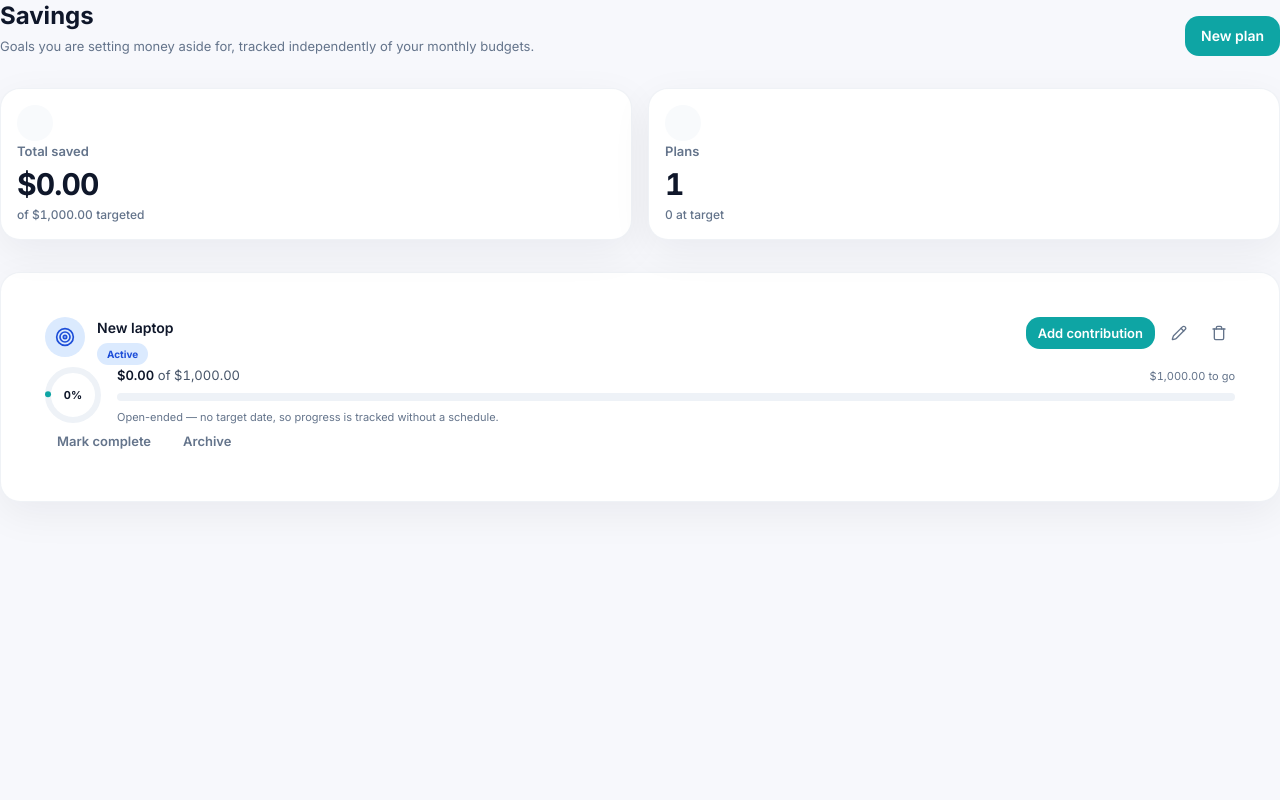
completion prompt › keeps the plan open-ended when the user chooses to keep contributing
The width and height of the screenshot is (1280, 800).
Click the button "Add contribution" at point(1090, 333), box [1026,317,1155,349]
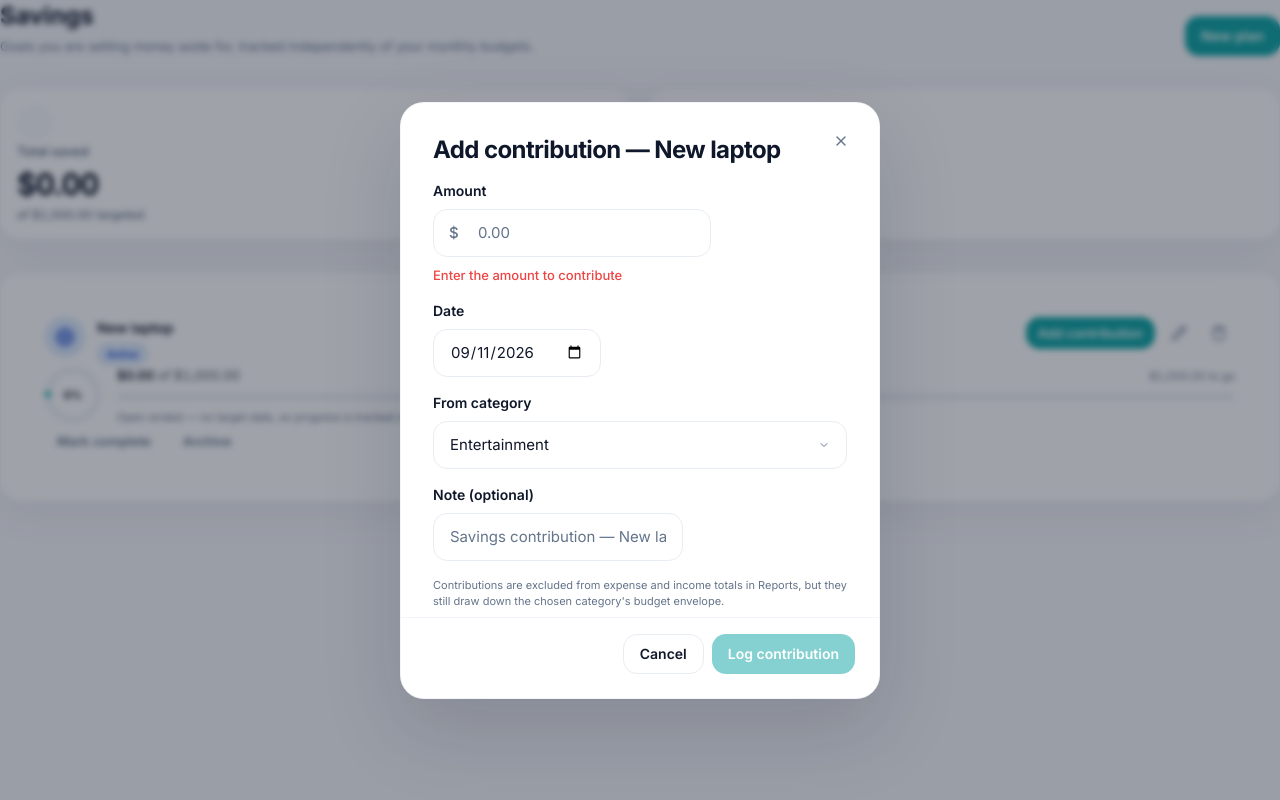
Type "1000" into the field labelled "Amount" at point(572, 232), box [433,208,711,256]
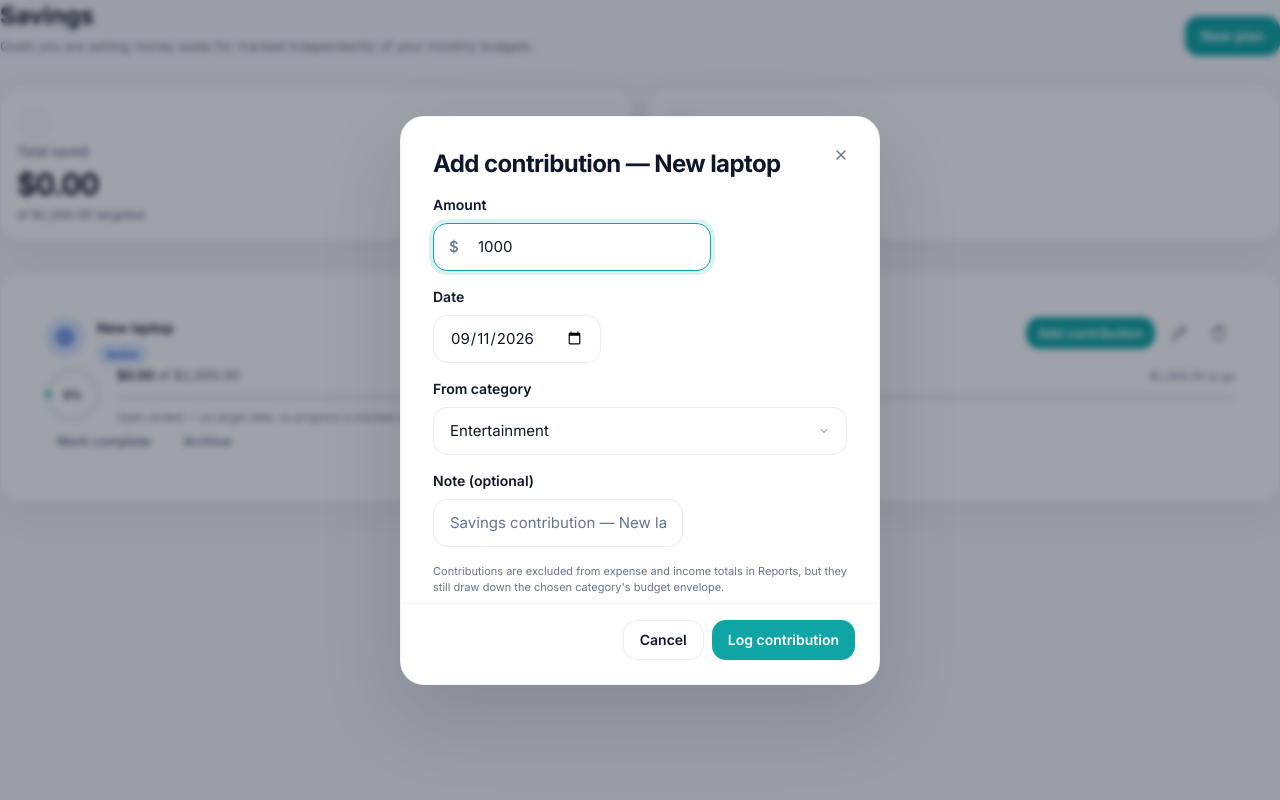
Click the button "Log contribution" at point(783, 640), box [712,620,855,660]
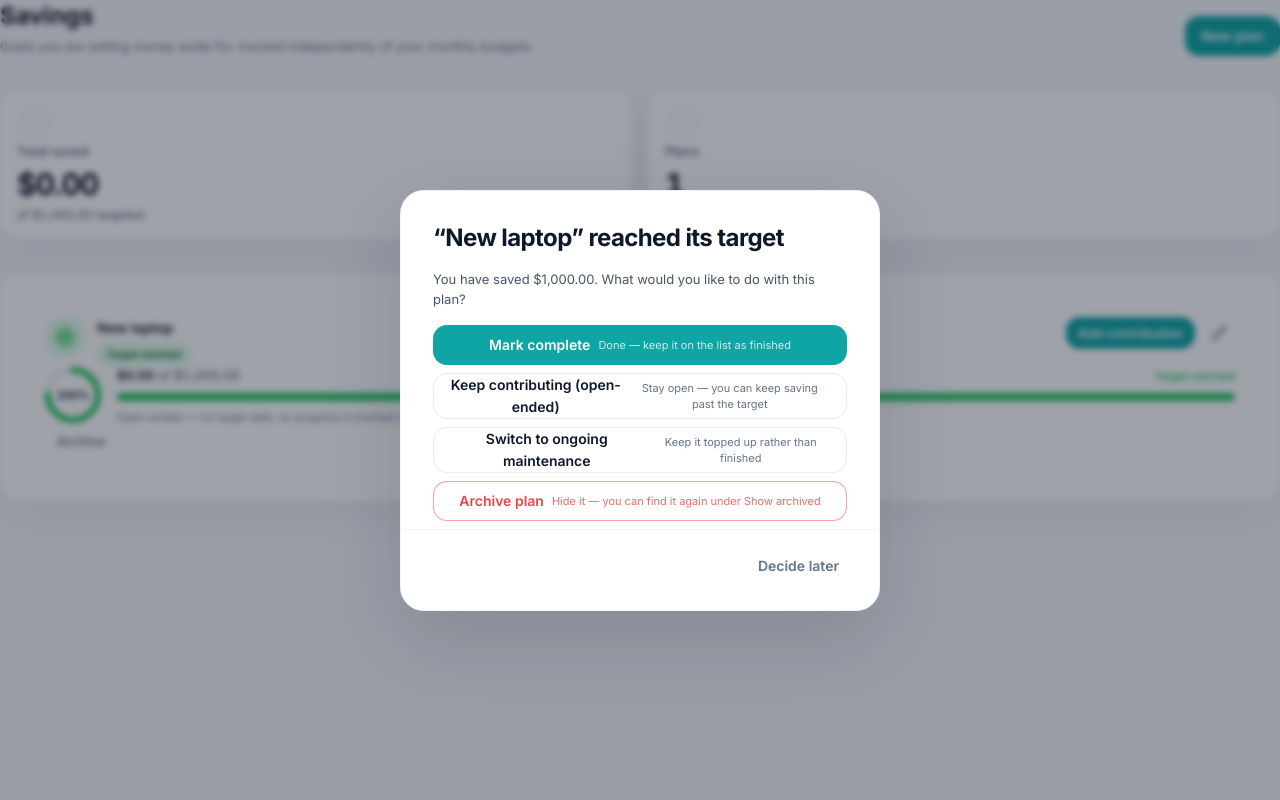
Click the button "Keep contributing" at point(640, 396), box [433,372,847,418]
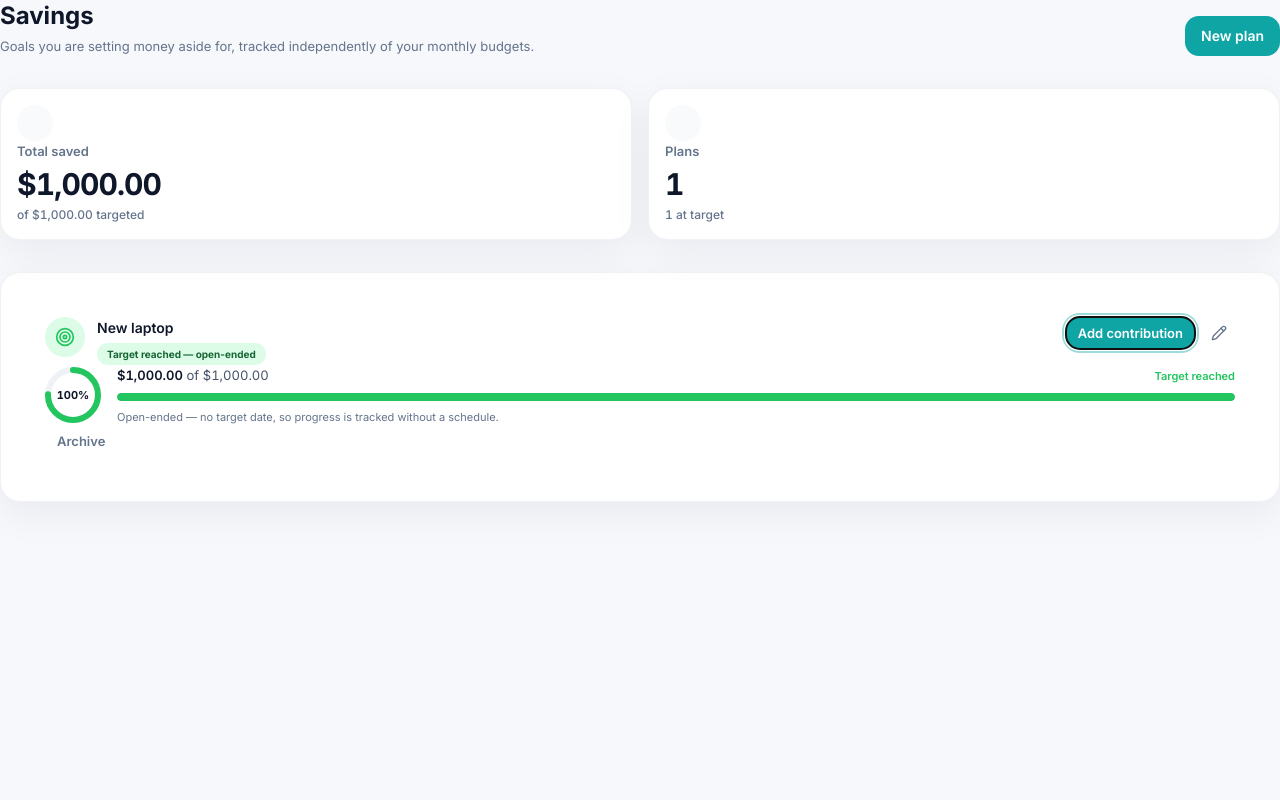
Now the dialog is gone
Now the text "Target reached — open-ended" is shown, box [97,343,266,365]
